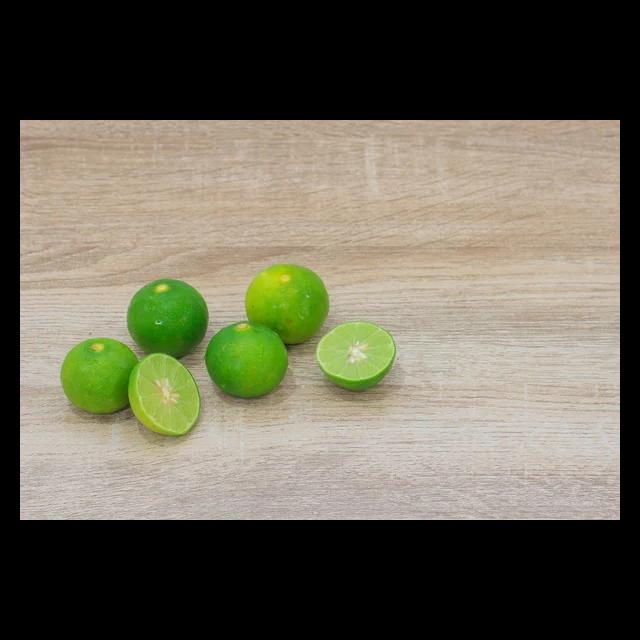lime: (240, 258, 334, 348), (122, 273, 213, 363), (203, 315, 293, 403), (56, 333, 145, 418)
